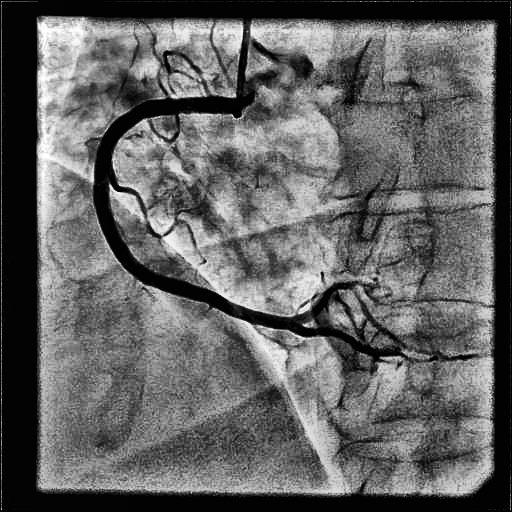pborca: (294, 281, 429, 354)
pda: (293, 325, 398, 357)
rca: (93, 96, 295, 329)
